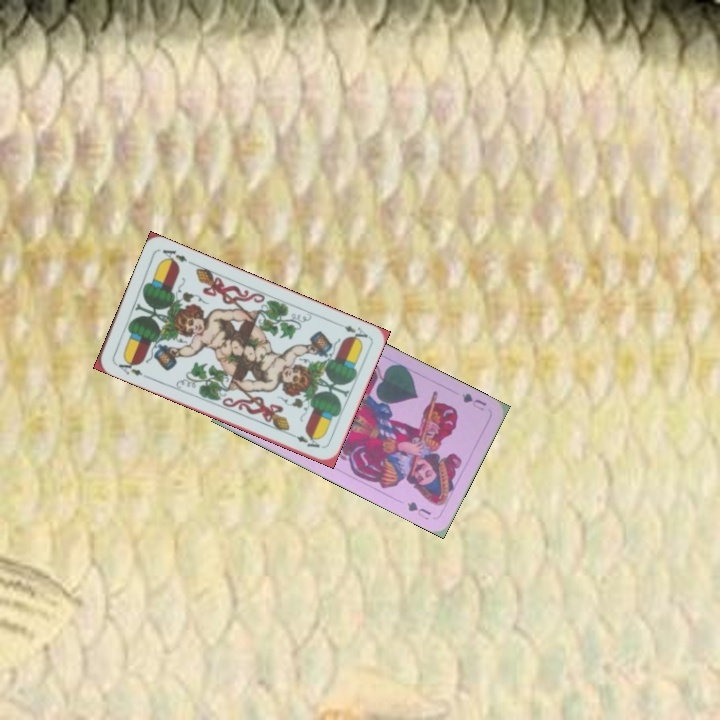EA: (332, 318, 370, 344), (111, 354, 145, 379)
GU: (458, 389, 489, 413)
